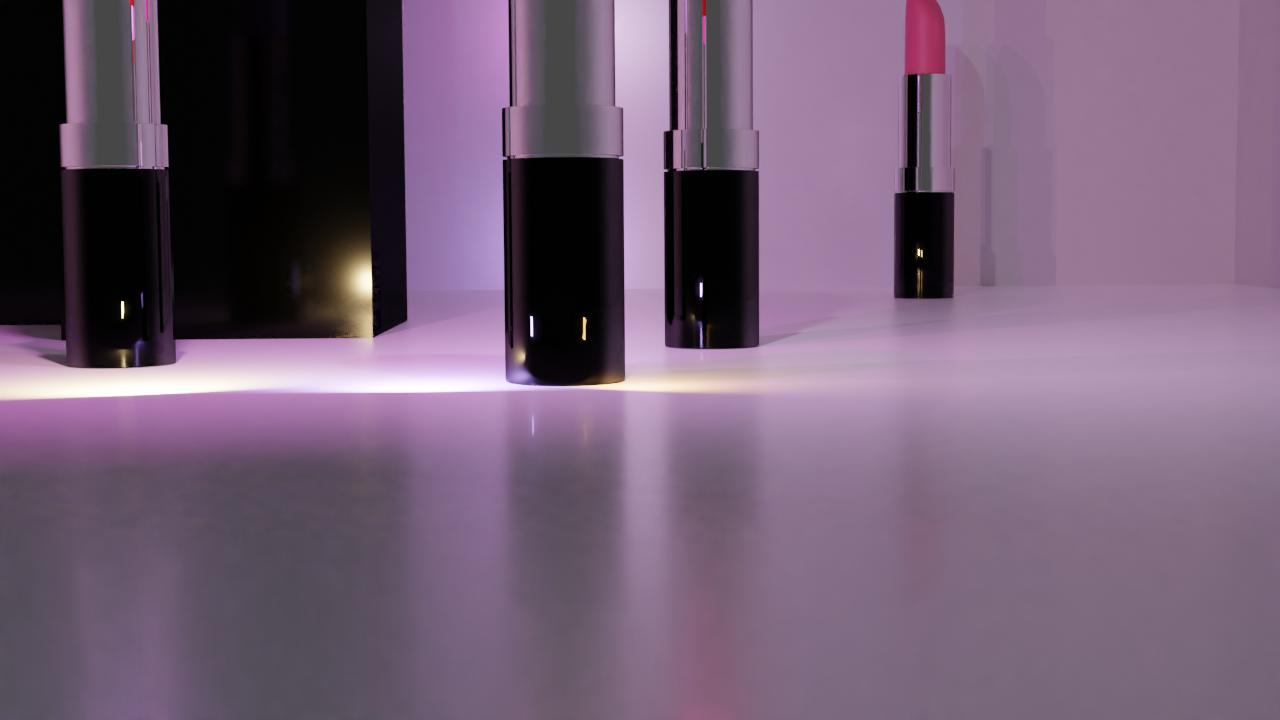CLASSIFIER_NAME: (500, 0, 626, 386), (56, 0, 179, 368), (662, 0, 760, 349), (892, 0, 956, 303)
